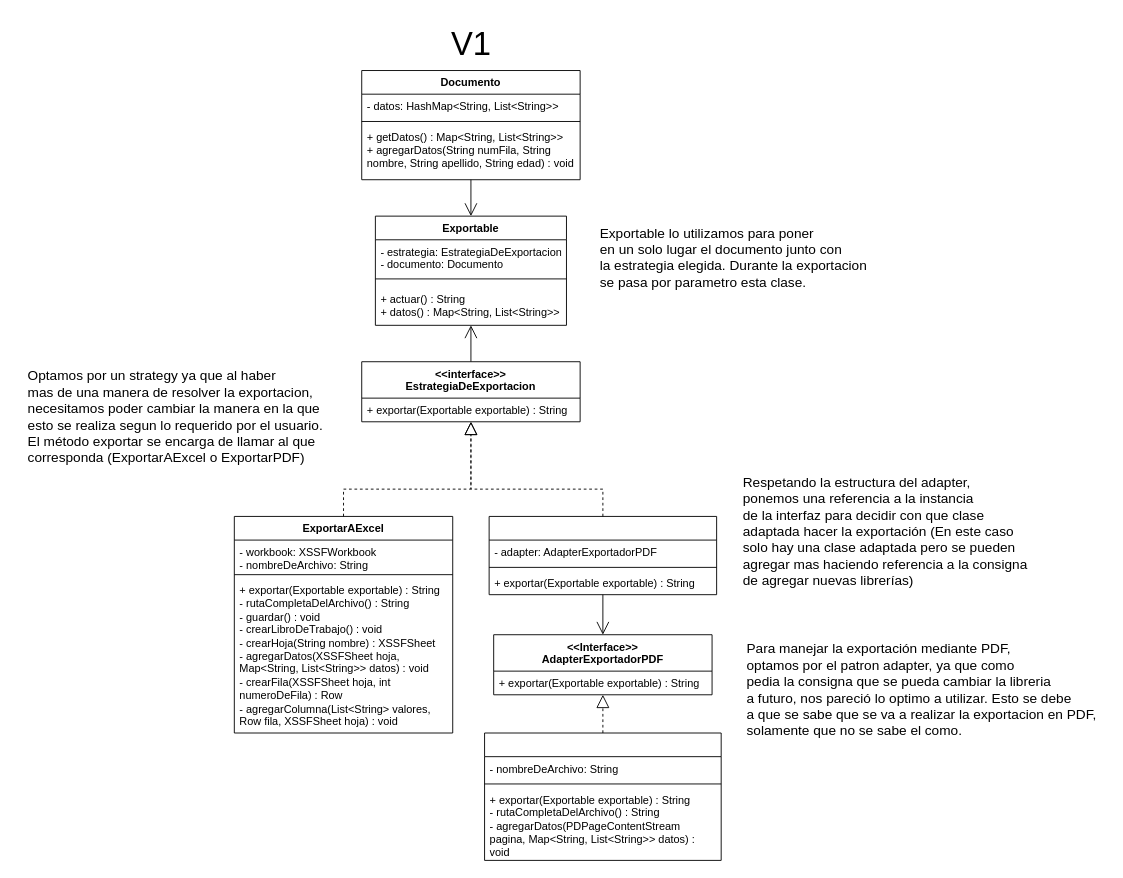
Some shapes in this 1123 by 878 pixel diagram are drawn without their labels. The box of each missing label's shape, as (x1, y1, x2, y2) in pixels:
AdapterApachePDFBox: (484, 732, 721, 860)
ExportarPDF: (488, 516, 717, 595)
